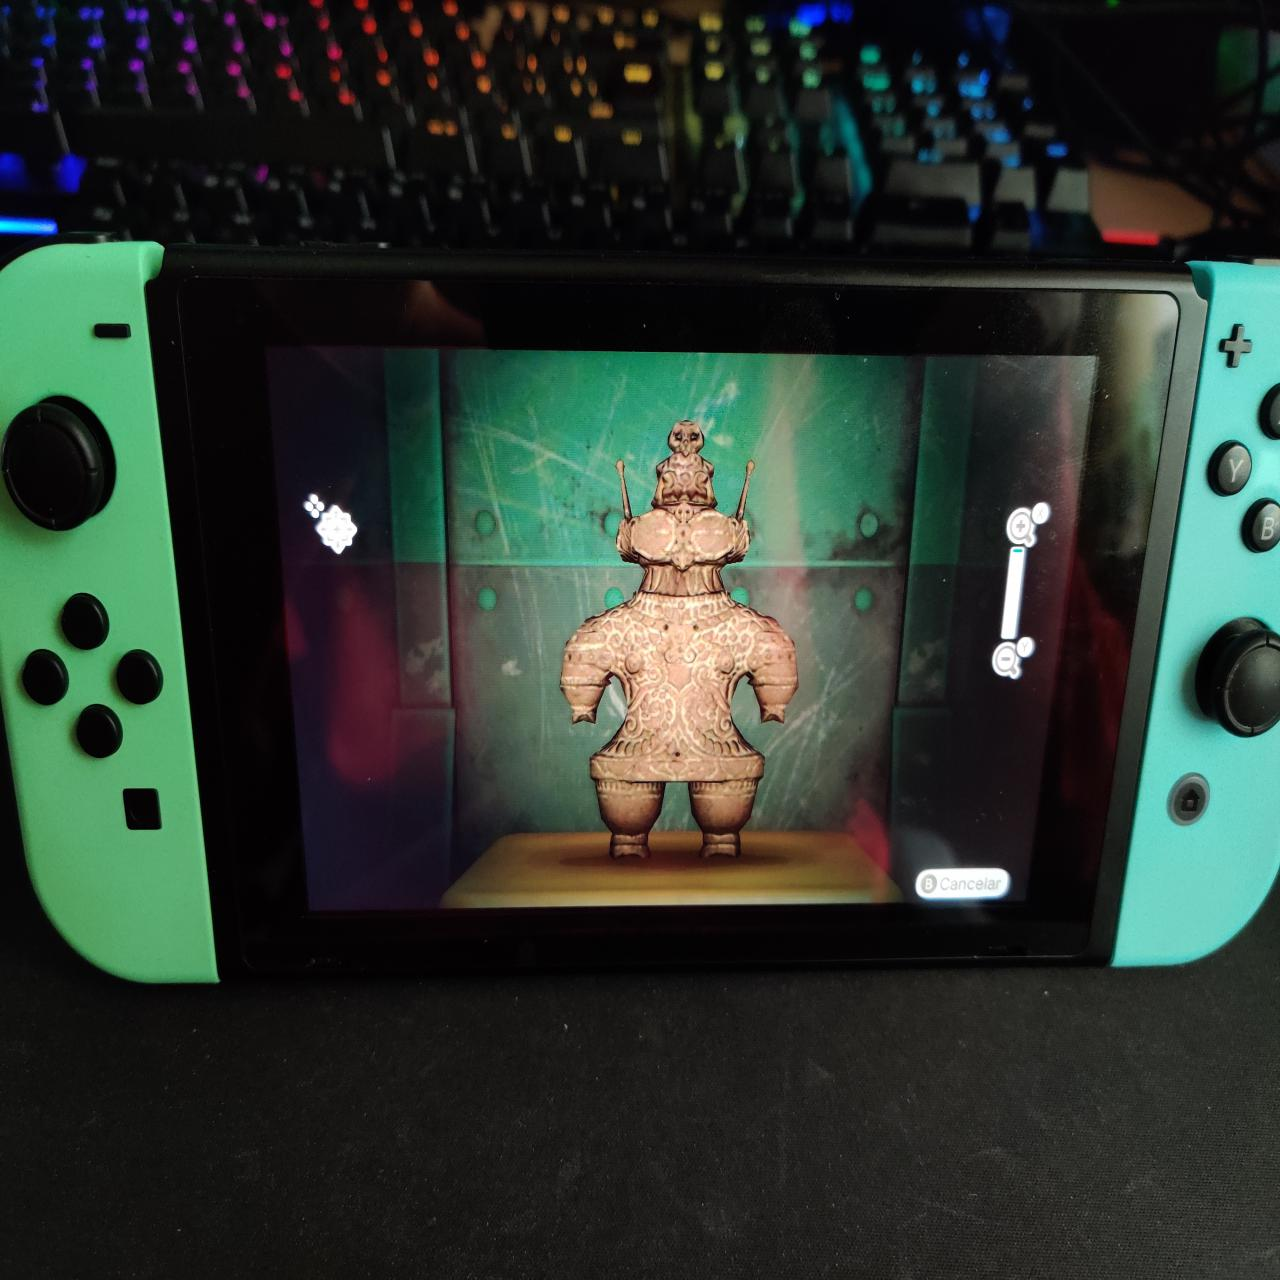DoguuFake: (557, 418, 806, 877)
